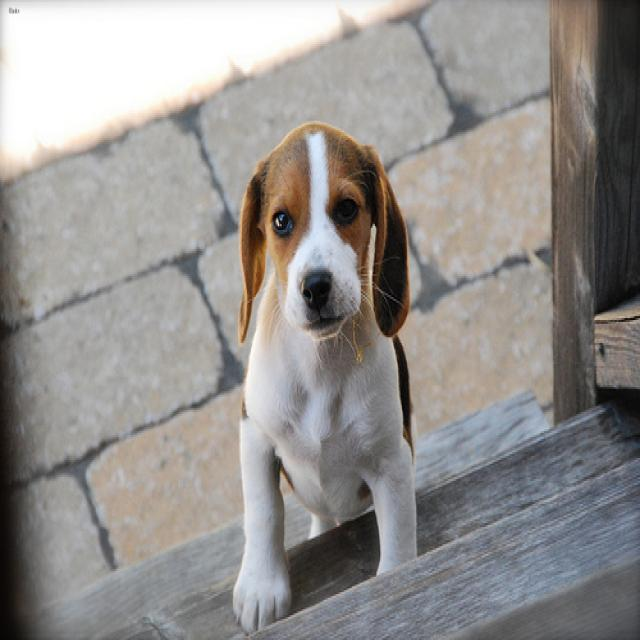dog-beagle: (223, 117, 422, 636)
